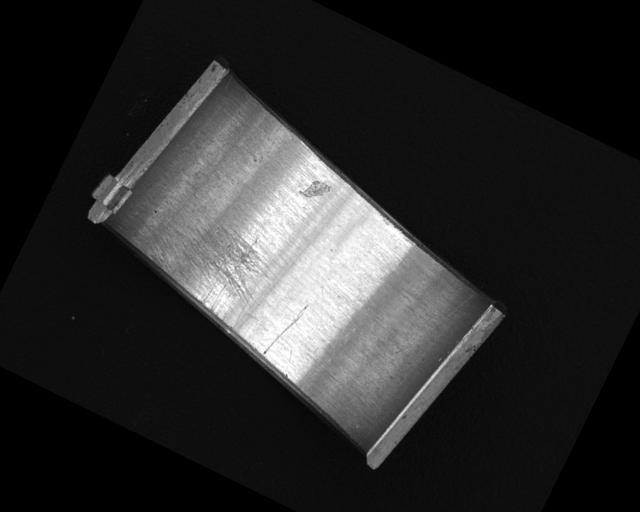bruise: (298, 174, 332, 205)
nick: (392, 270, 476, 375), (261, 296, 310, 364)
scratch: (131, 195, 283, 338)
